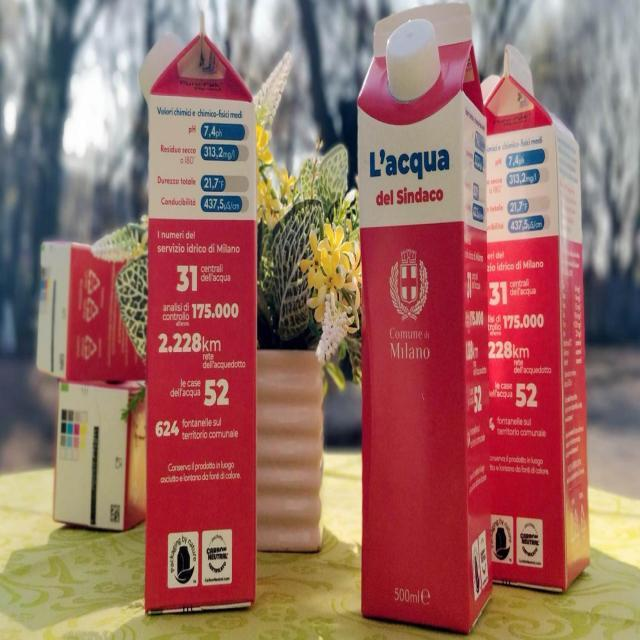Carton: (352, 0, 490, 634), (146, 2, 258, 616), (472, 41, 595, 590)
